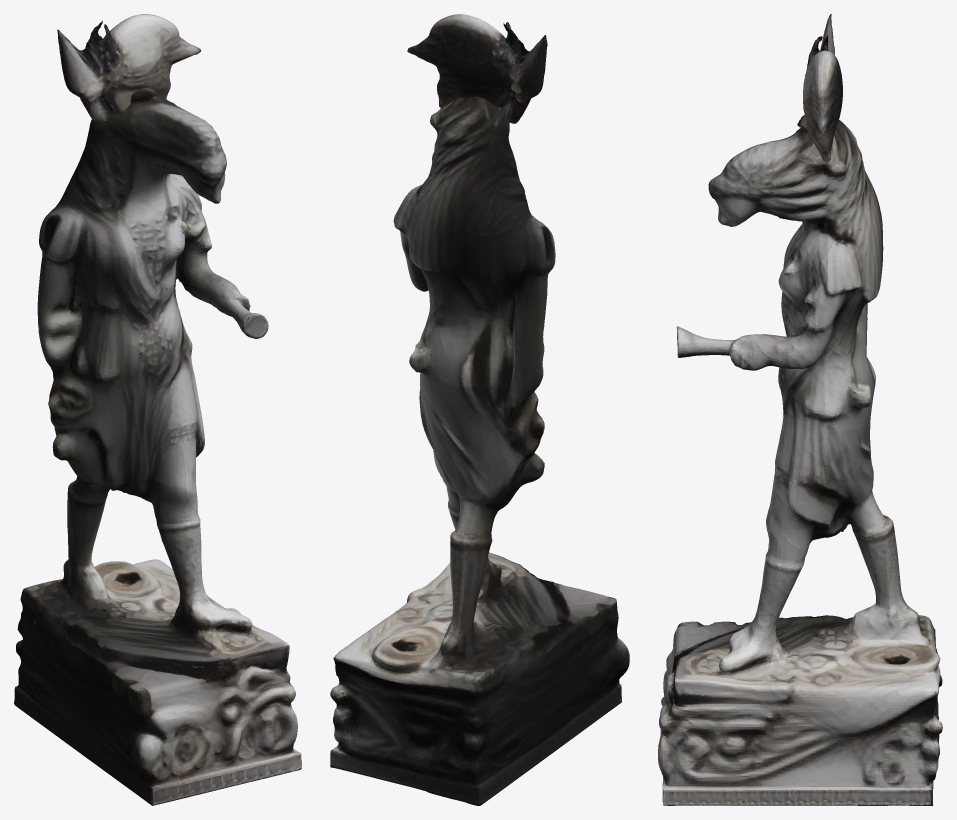
3 renders of one model, left to right at view 1: azimuth 30°, elevation 25°; view 2: azimuth 150°, elevation 25°; view 3: azimuth 270°, elevation 25°, orthographic. The views are drawn at different scales.
Parts seen in each view (by area): view 1: part_0, part_1; view 2: part_0, part_1; view 3: part_0, part_1.
Boxes of the visible parts, x1,y1,x2,y2 form: part_0: [14, 88, 301, 805]; part_1: [57, 14, 200, 123]; part_0: [330, 96, 629, 805]; part_1: [407, 14, 547, 123]; part_0: [658, 115, 942, 805]; part_1: [803, 14, 842, 161].
Size of the model in its own units: 0.2469 by 0.9986 by 0.3607.
Materials: 2 (2 with a texture image).
